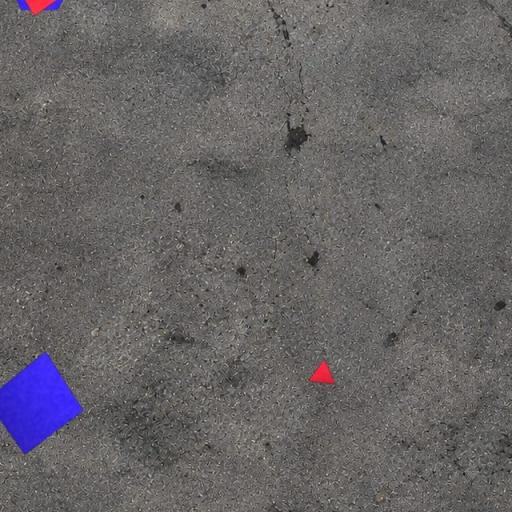BLUE_SQUARE: (0, 351, 84, 455)
RED_SQUARE: (15, 0, 66, 17)
